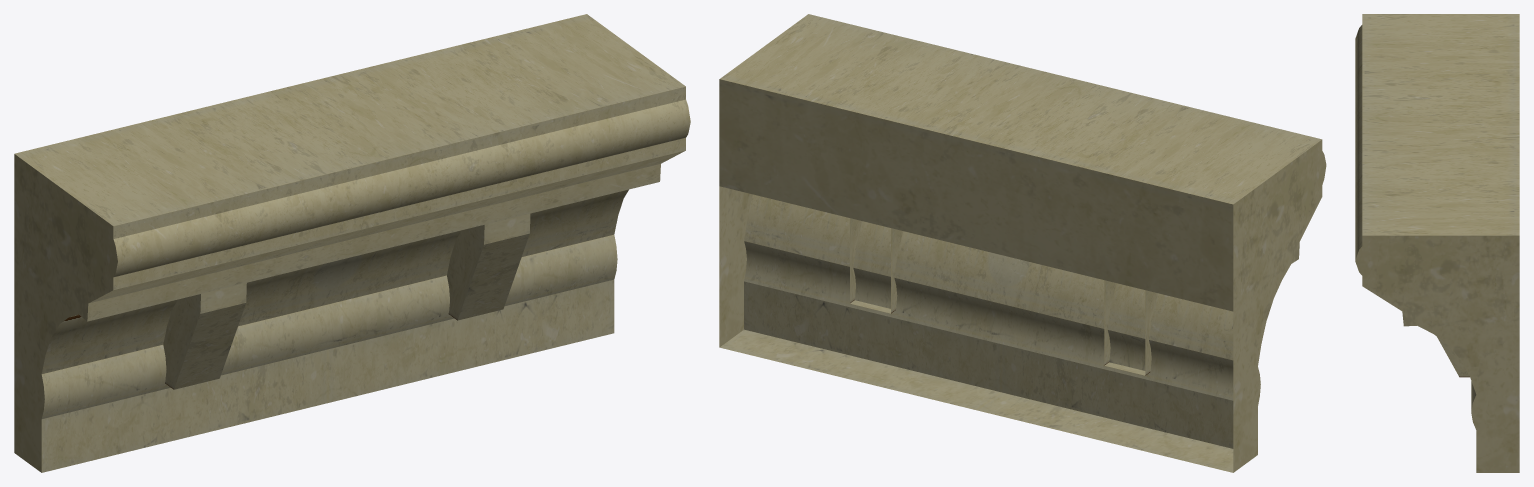
Rendered from Cornice_Trim_Center.gltf.
The picture shows the model from 3 angles, left to right: view 1: azimuth 30°, elevation 25°; view 2: azimuth 150°, elevation 25°; view 3: azimuth 270°, elevation 25°; orthographic projection. The views are drawn at different scales.
Visible parts, largest first — view 1: Cornice_Trim_Center; view 2: Cornice_Trim_Center; view 3: Cornice_Trim_Center.
Boxes of the visible parts, bbox=[...] form: Cornice_Trim_Center: bbox=[14, 14, 690, 472]; Cornice_Trim_Center: bbox=[719, 14, 1326, 472]; Cornice_Trim_Center: bbox=[1355, 14, 1519, 472].
Size of the model in its own units: 2 by 0.9984 by 0.6278.
1 material, 1 textured.
